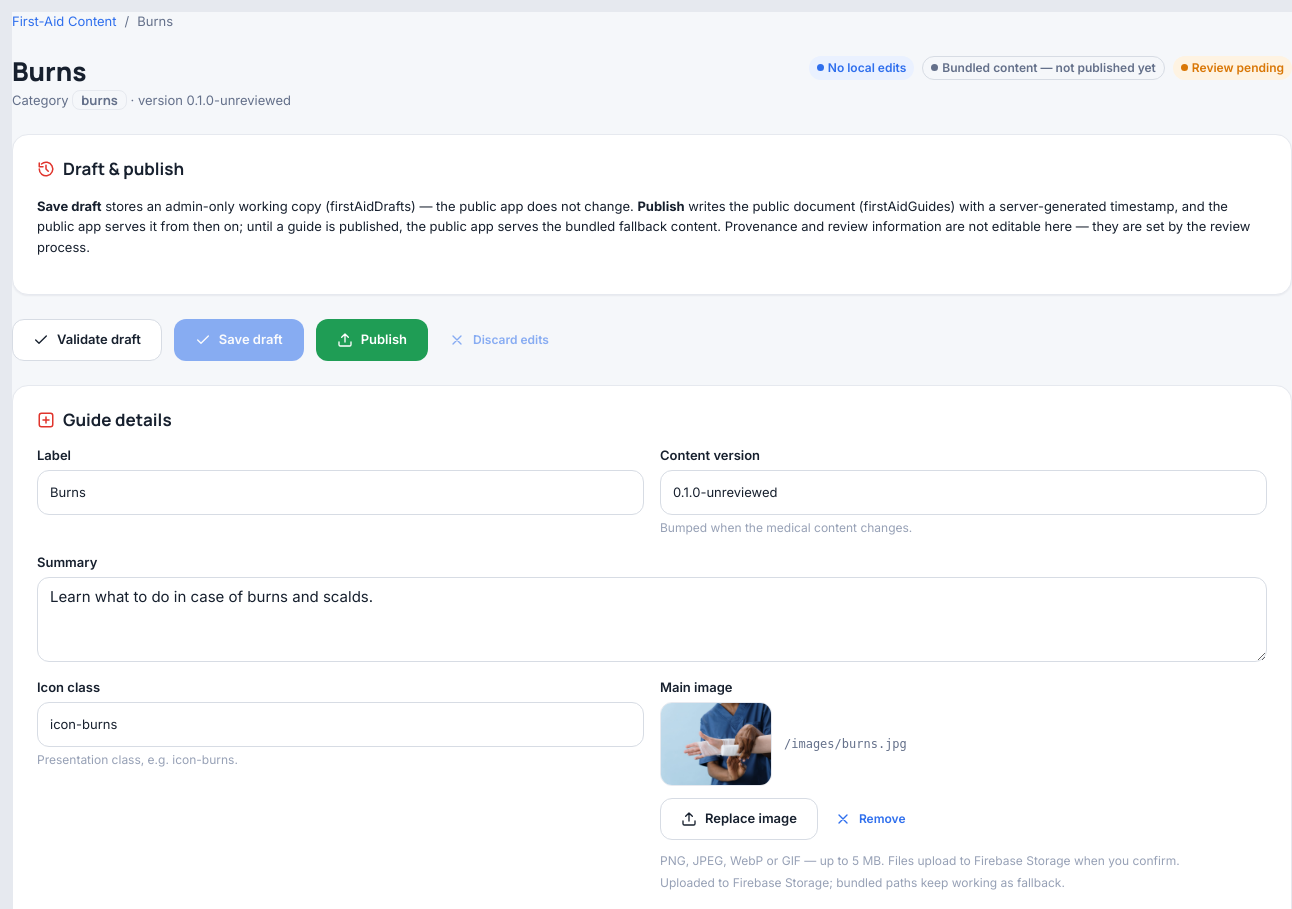
it: AdminGuideEditorPage — editor › validation surfaces field errors for emptied required fields
Check: the heading "Burns" is shown, box [12,52,87,88]
Clear the field labelled "Label" at (340, 493), box [37,470,644,515]
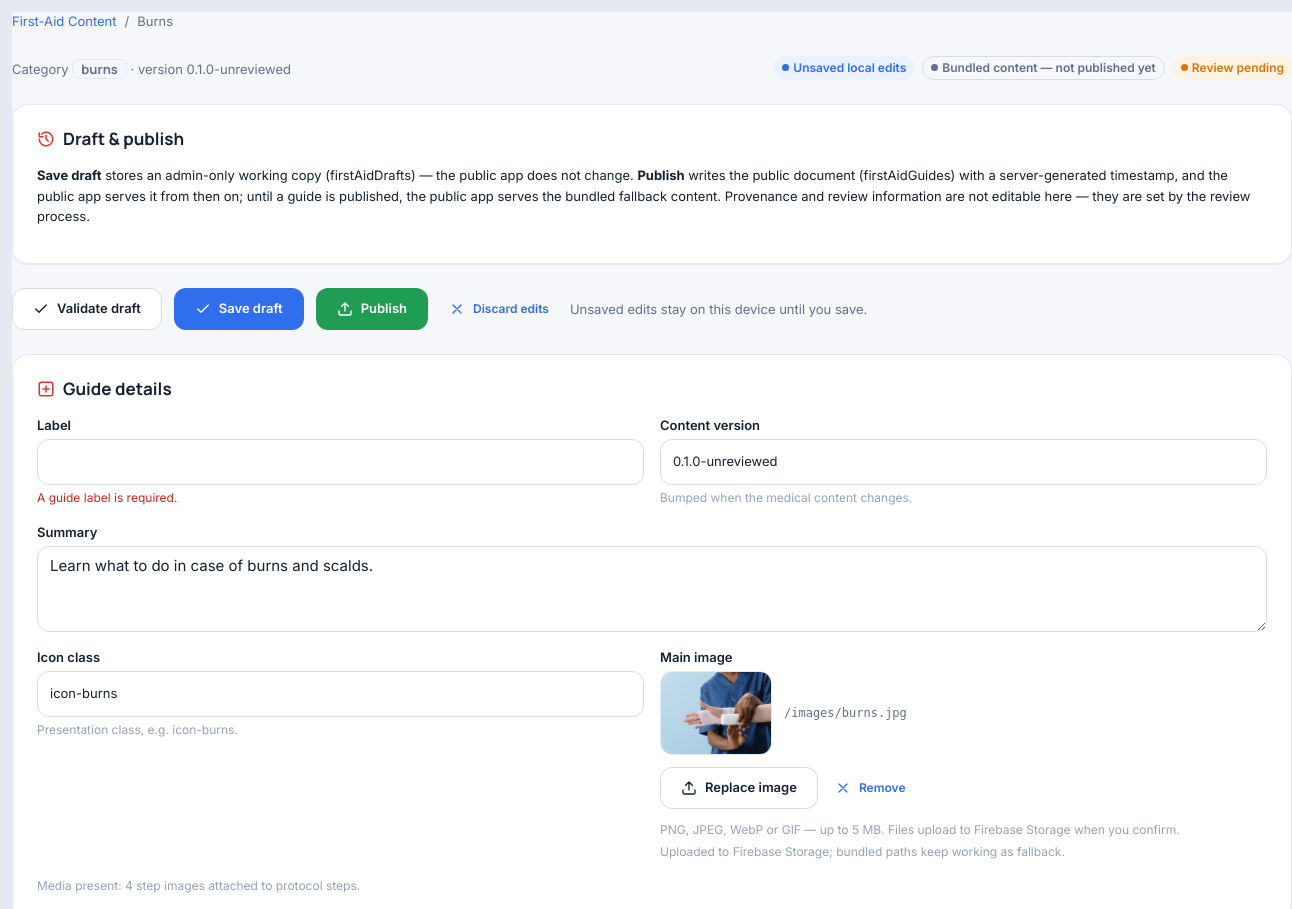
Click the button "Validate draft".
click(87, 309)  # box [12,288,162,330]
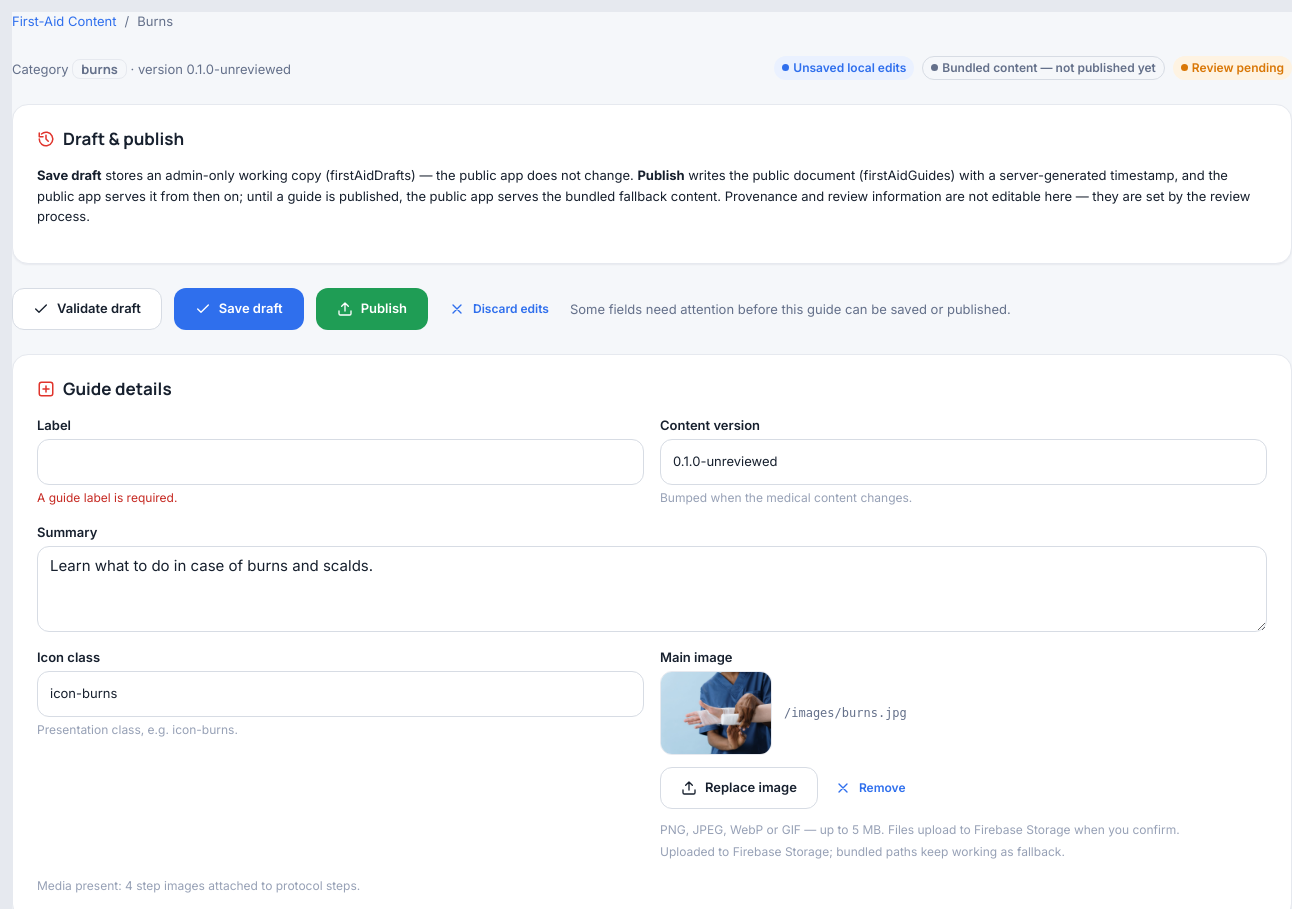
Check: the text "A guide label is required." is shown, box [37,490,177,505]
Check: the text "Some fields need attention before this guide can be saved or published." is shown, box [570,300,1011,319]
